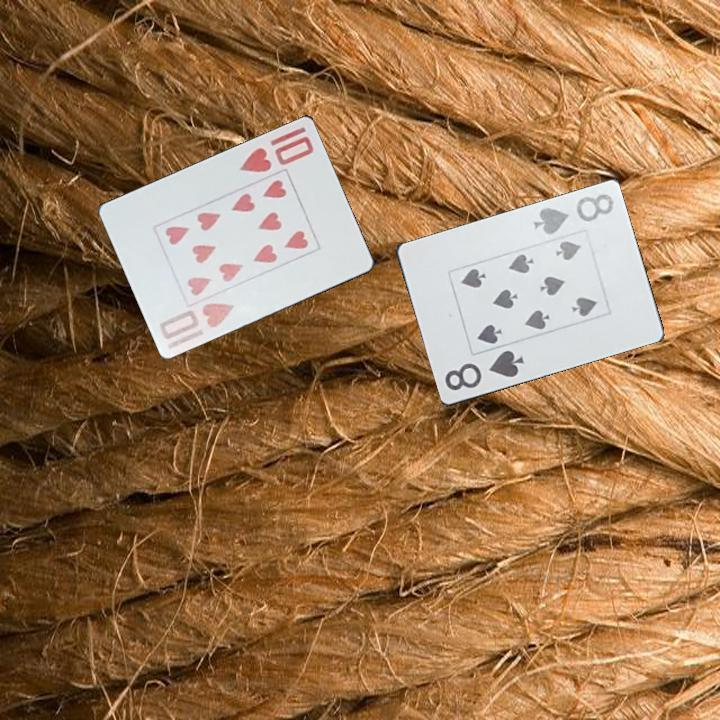8s: (530, 190, 617, 238), (441, 347, 527, 394)
Th: (156, 298, 237, 352), (235, 132, 317, 175)
